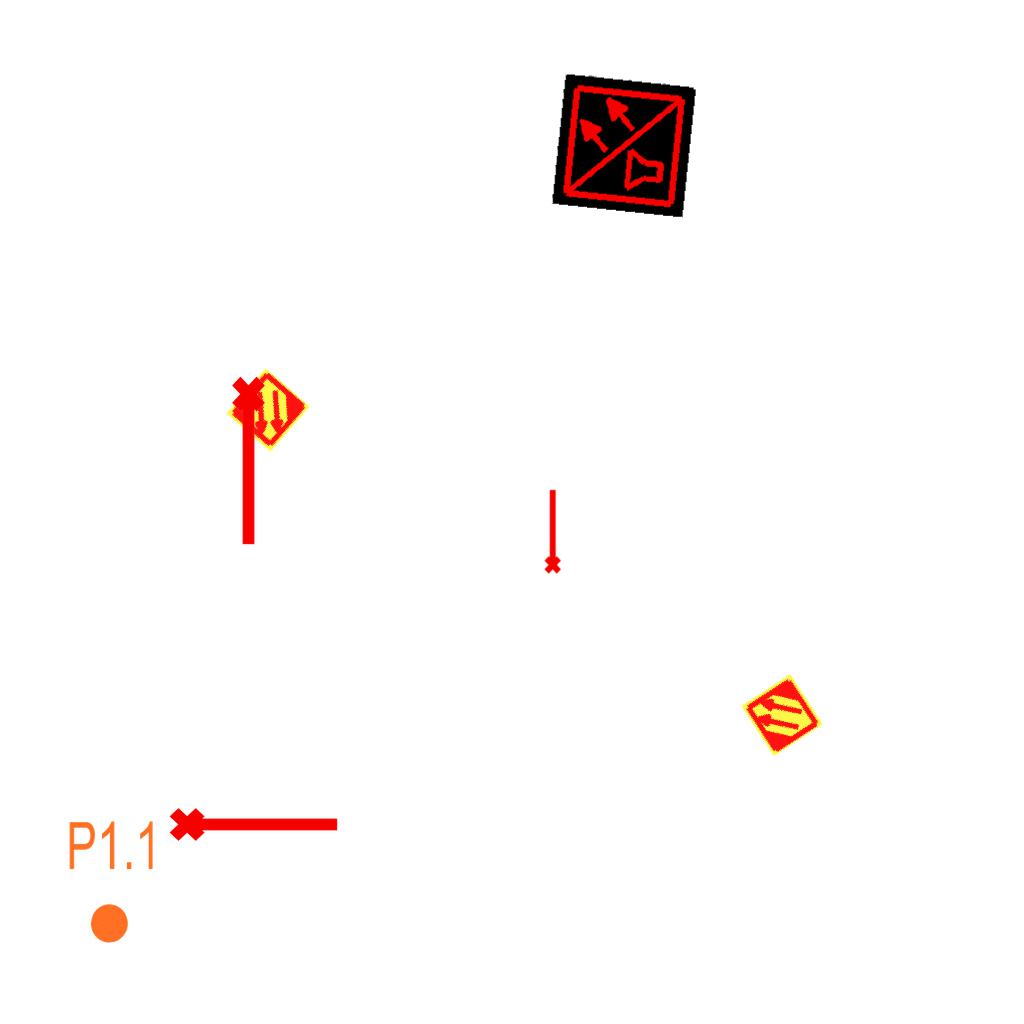ASR_Ansaugoeffnung: (167, 799, 343, 845), (228, 374, 274, 550), (540, 487, 563, 575)
ASR_Ansaugrauchmelder: (224, 366, 312, 454), (739, 672, 825, 758)
Downlight_LED_Einbauleuchten_Flur: (66, 818, 159, 946)
OKW_Multisensormelder_(Kombination_optischer_Rauch-Kahlenmonoxid_Waerme-Melder): (551, 72, 697, 218)
